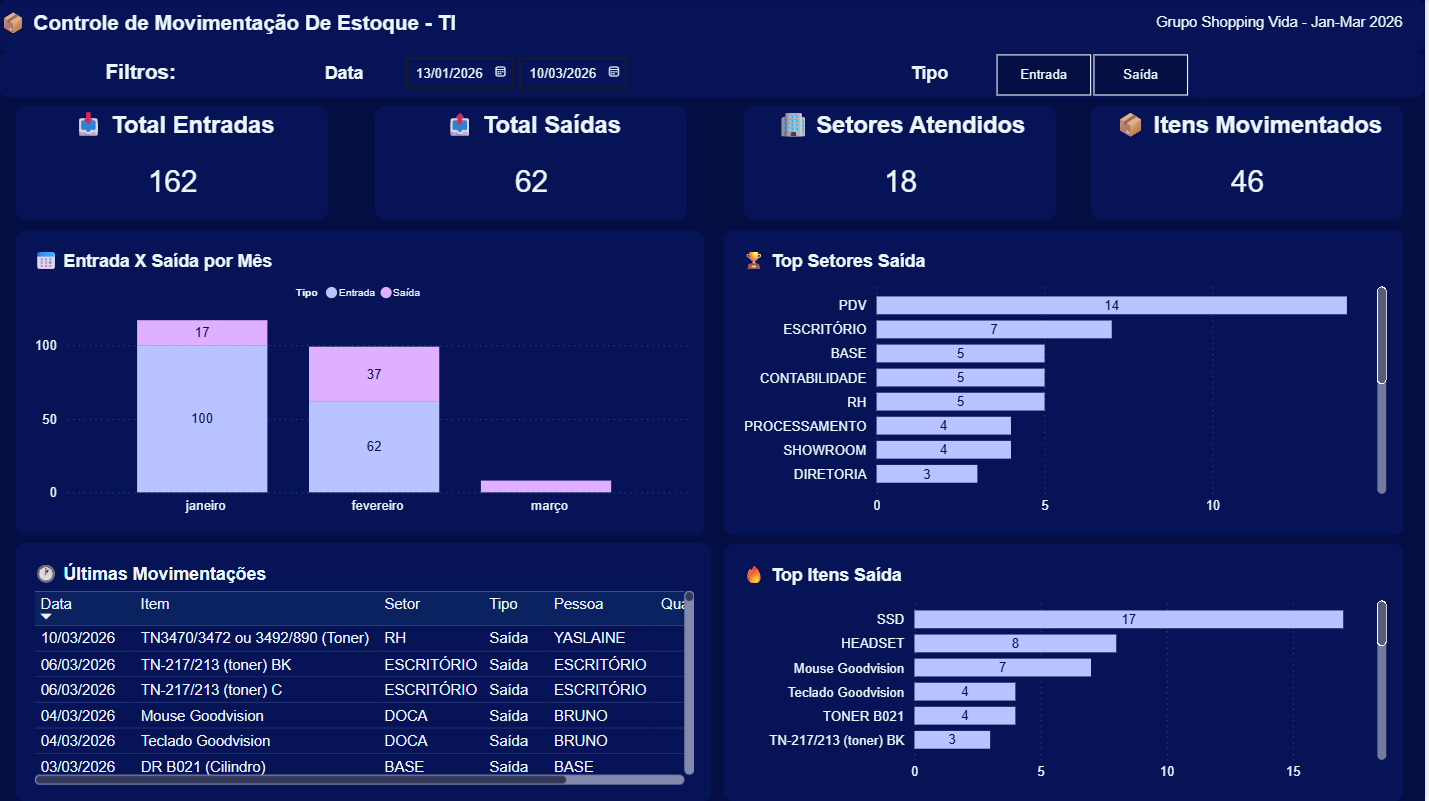

This screenshot's page, from the dashboard's own definition file:
{"tool":"powerbi","page":{"name":"Controle","canvas":[1280,720],"ordinal":0},"visuals":[{"type":"card","title":"📤 Total Saídas","fields":{"Values":["MOVIMENTAÇÕES.Total Saídas"]},"box":[337.3,96.1,280.2,101.6],"z":0},{"type":"card","title":"🏢 Setores Atendidos","fields":{"Values":["MOVIMENTAÇÕES.Setores Atendidos"]},"box":[669.2,96.1,280.2,101.6],"z":1000},{"type":"card","title":"📦 Itens Movimentados","fields":{"Values":["MOVIMENTAÇÕES.Itens Movimentados"]},"box":[980.3,96.1,280.2,101.6],"z":2000},{"type":"shape","box":[0,0,1280,46.7],"z":3000},{"type":"textbox","box":[0,0,526.2,47],"z":4000},{"type":"textbox","box":[1039,0,240.2,46.7],"z":5000},{"type":"shape","box":[0,46.7,1279,41.8],"z":6000},{"type":"columnChart","title":"📅 Entrada X Saída por Mês","fields":{"Category":["MOVIMENTAÇÕES.Data.Variation.Hierarquia de datas.Mês"],"Y":["Sum(MOVIMENTAÇÕES.Quantidade)"],"Series":["MOVIMENTAÇÕES.Tipo"]},"box":[15.4,207.7,617.5,273.9],"z":7000},{"type":"clusteredBarChart","title":"🏆 Top Setores Saída","fields":{"Category":["MOVIMENTAÇÕES.Setor (só Saída)"],"Y":["MOVIMENTAÇÕES.Total Saídas"]},"box":[650.9,207.4,609.6,273.8],"z":8000},{"type":"tableEx","title":"🕐 Últimas Movimentações","fields":{"Values":["MOVIMENTAÇÕES.Data","MOVIMENTAÇÕES.Item","MOVIMENTAÇÕES.Setor (só Saída)","MOVIMENTAÇÕES.Tipo","MOVIMENTAÇÕES.Pessoa","Sum(MOVIMENTAÇÕES.Quantidade)","MOVIMENTAÇÕES.Responsável"]},"box":[15.3,488.4,623.9,231.6],"z":9000},{"type":"clusteredBarChart","title":"🔥 Top Itens Saída","fields":{"Category":["MOVIMENTAÇÕES.Item"],"Y":["MOVIMENTAÇÕES.Total Saídas"]},"box":[650.9,489.3,609.6,230.7],"z":10000},{"type":"slicer","fields":{"Values":["MOVIMENTAÇÕES.Data"]},"box":[356.4,46.2,222.2,41.7],"z":11000},{"type":"textbox","box":[70,46.2,114.3,42],"z":12000},{"type":"slicer","fields":{"Values":["MOVIMENTAÇÕES.Tipo"]},"box":[873.2,46.2,214,41.7],"z":13000},{"type":"card","title":"📥 Total Entradas","fields":{"Values":["MOVIMENTAÇÕES.Total Entradas"]},"box":[15.4,96.1,280.2,101.6],"z":14000},{"type":"textbox","box":[263,46.2,93.4,41.7],"z":15000},{"type":"textbox","box":[797.1,46.2,76.2,41.7],"z":16000}]}

Visuals, with their boxes in screenshot pixels (x1, y1, x2, y2), scaled from the page's 1280x720 canvas onto the 1429x801 screenshot:
"📤 Total Saídas" card: [x1=377, y1=107, x2=689, y2=220]
"🏢 Setores Atendidos" card: [x1=747, y1=107, x2=1060, y2=220]
"📦 Itens Movimentados" card: [x1=1094, y1=107, x2=1407, y2=220]
shape: [x1=0, y1=0, x2=1428, y2=52]
textbox: [x1=0, y1=0, x2=587, y2=52]
textbox: [x1=1160, y1=0, x2=1428, y2=52]
shape: [x1=0, y1=52, x2=1428, y2=98]
"📅 Entrada X Saída por Mês" columnChart: [x1=17, y1=231, x2=707, y2=536]
"🏆 Top Setores Saída" clusteredBarChart: [x1=727, y1=231, x2=1407, y2=535]
"🕐 Últimas Movimentações" tableEx: [x1=17, y1=543, x2=714, y2=800]
"🔥 Top Itens Saída" clusteredBarChart: [x1=727, y1=544, x2=1407, y2=800]
slicer - MOVIMENTAÇÕES.Data: [x1=398, y1=51, x2=646, y2=98]
textbox: [x1=78, y1=51, x2=206, y2=98]
slicer - MOVIMENTAÇÕES.Tipo: [x1=975, y1=51, x2=1214, y2=98]
"📥 Total Entradas" card: [x1=17, y1=107, x2=330, y2=220]
textbox: [x1=294, y1=51, x2=398, y2=98]
textbox: [x1=890, y1=51, x2=975, y2=98]
